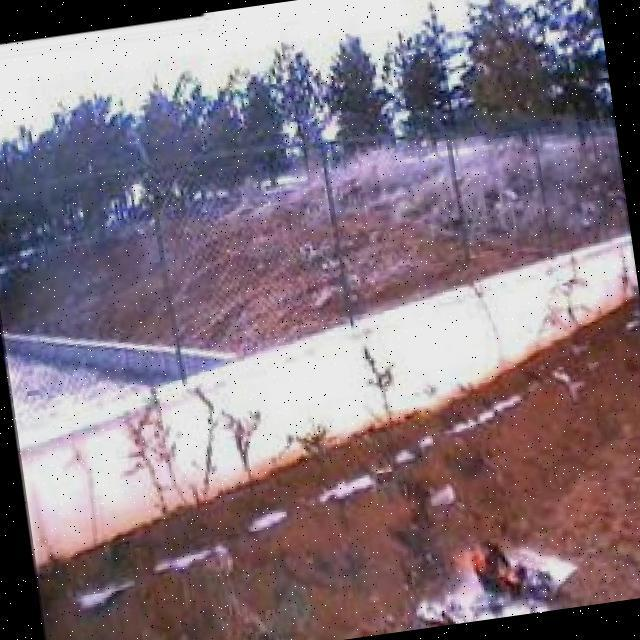Fire: (451, 531, 551, 608)
